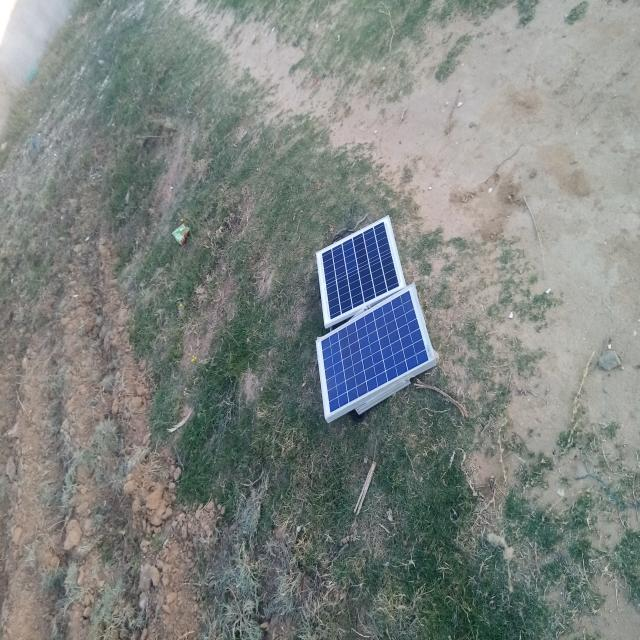no faulty: (316, 284, 435, 419), (317, 215, 405, 325)
